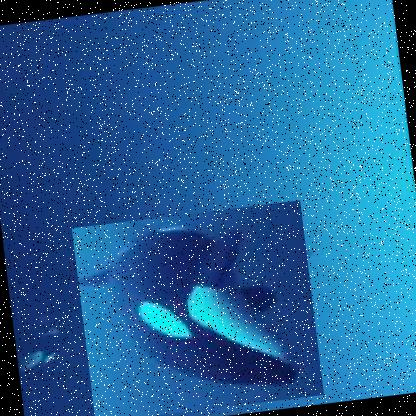killer_whale: (70, 197, 324, 415)
